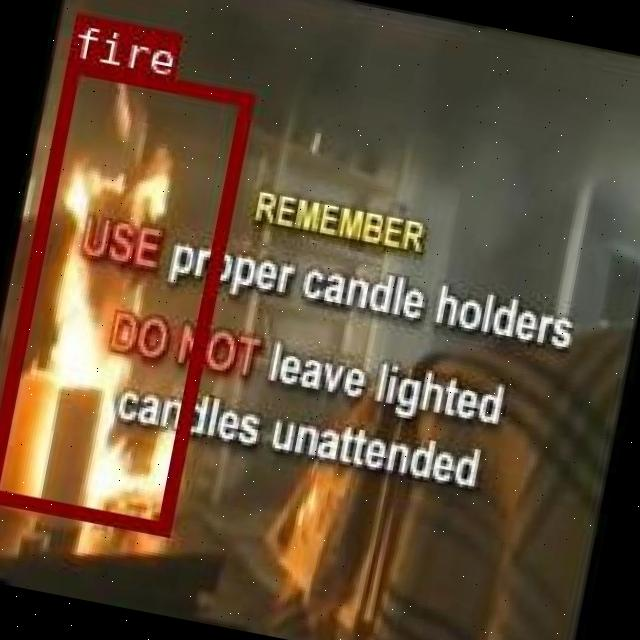fire: (0, 56, 253, 534)
